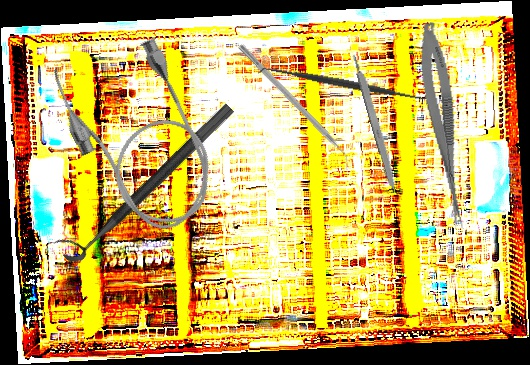Cannula: (42, 23, 234, 251)
Chopper: (231, 43, 357, 172)
Fixation Ring: (51, 89, 236, 268)
Micro Scissor: (412, 20, 477, 232)
Scalpel Handle: (350, 51, 401, 195)
Spatula Surgical: (257, 57, 435, 110)
